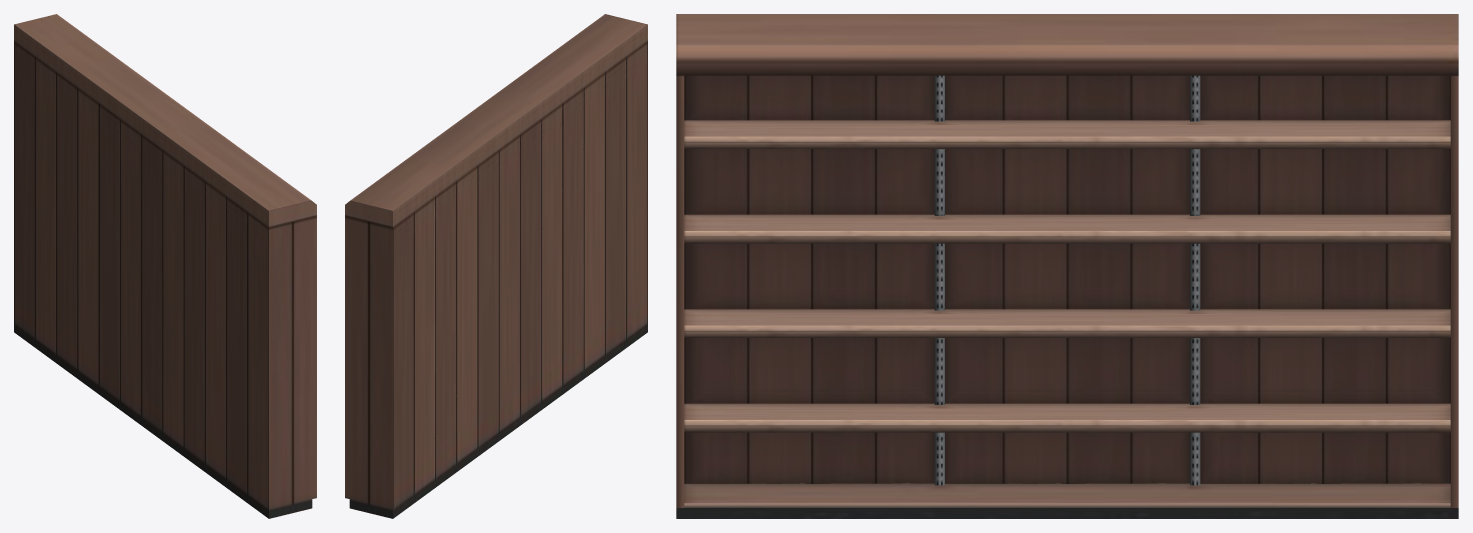
File: station-shelving.glb
3 views of the same model, side by side, from view 1: azimuth 30°, elevation 25°; view 2: azimuth 150°, elevation 25°; view 3: azimuth 270°, elevation 25° (orthographic). The views are drawn at different scales.
Parts seen in each view (by area): view 1: Station-shelvingBody; view 2: Station-shelvingBody; view 3: Station-shelvingBody.
Part boxes in pixels (box(x1,y1,x2,y2)): Station-shelvingBody: box(14, 14, 316, 518); Station-shelvingBody: box(345, 14, 647, 518); Station-shelvingBody: box(676, 14, 1458, 518).
Bounding box in the file's own units: 0.65 × 4 × 6.
Materials: 1 (1 with a texture image).
